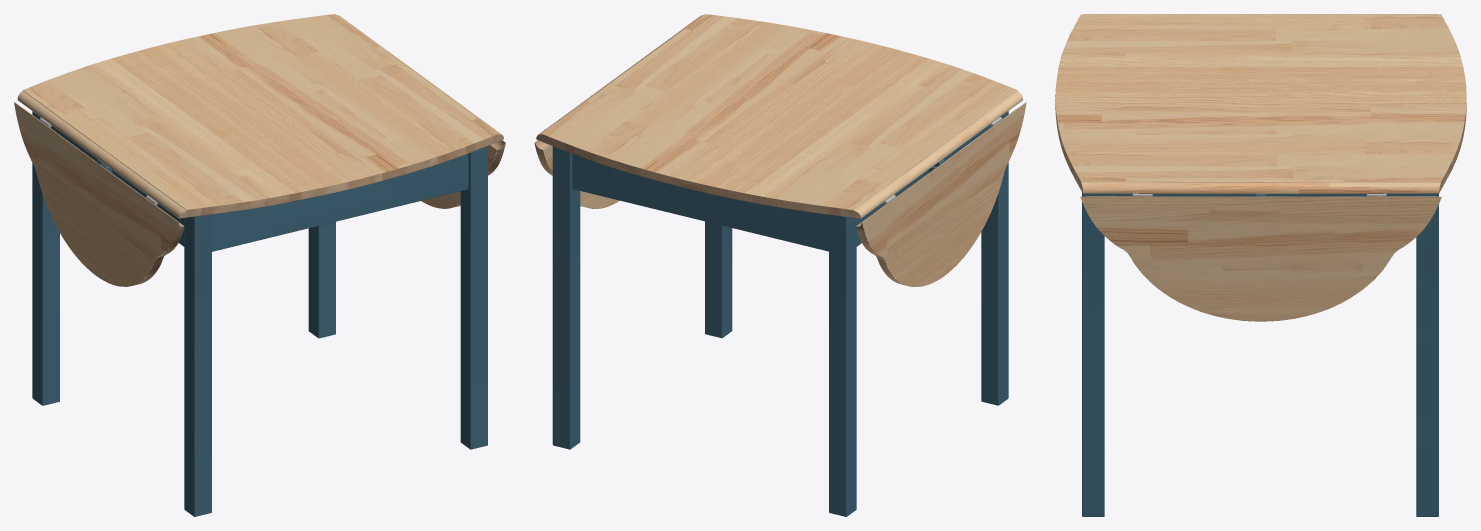
File: ommjaenge_drop_leaf_table_pine_stained_b.glb
3 renders of one model, left to right at view 1: azimuth 30°, elevation 25°; view 2: azimuth 150°, elevation 25°; view 3: azimuth 270°, elevation 25°, orthographic. The views are drawn at different scales.
Visible parts, largest first — view 1: 90594676_drop_leaf_table.002, 90594676_drop_leaf_table, 90594676_drop_leaf_table.003; view 2: 90594676_drop_leaf_table.002, 90594676_drop_leaf_table, 90594676_drop_leaf_table.003; view 3: 90594676_drop_leaf_table.002, 90594676_drop_leaf_table, 90594676_drop_leaf_table.003.
Part boxes in pixels (x1,y1,x2,y2): 90594676_drop_leaf_table.002: (14,14,501,286); 90594676_drop_leaf_table: (32,111,487,516); 90594676_drop_leaf_table.003: (14,102,505,285); 90594676_drop_leaf_table.002: (537,14,1026,286); 90594676_drop_leaf_table: (552,111,1008,516); 90594676_drop_leaf_table.003: (534,102,1025,286); 90594676_drop_leaf_table.002: (1055,14,1466,321); 90594676_drop_leaf_table: (1082,185,1438,516); 90594676_drop_leaf_table.003: (1055,33,1466,321).
Bounding box in the file's own units: 0.8298 × 0.7501 × 0.8201.
4 materials, 3 textured.
